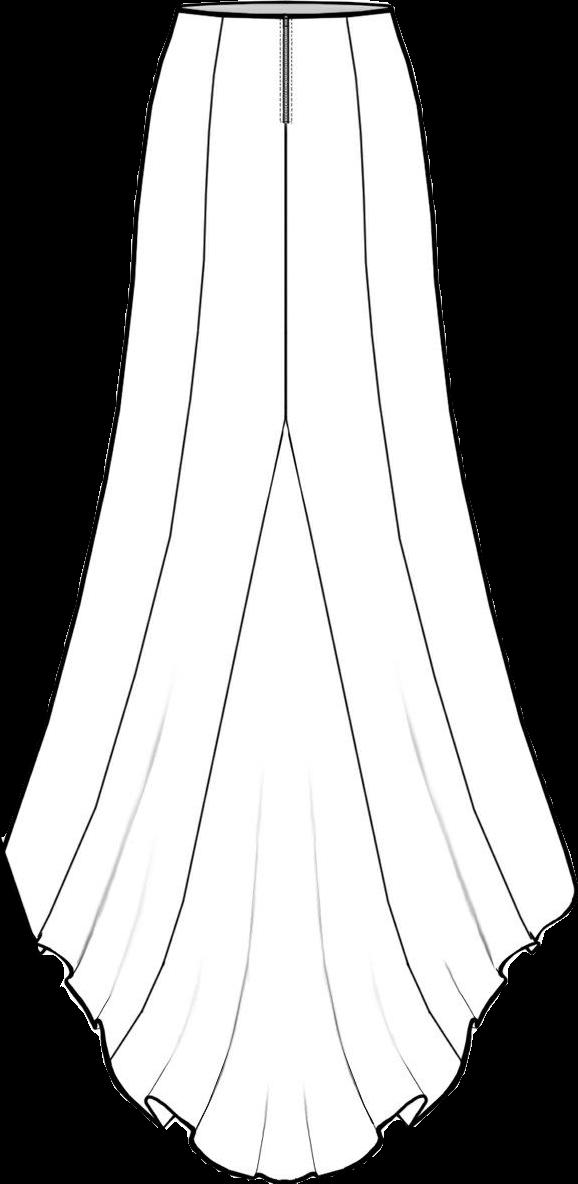Hemline: (0, 842, 577, 1182)
Waistline: (171, 0, 399, 27)
